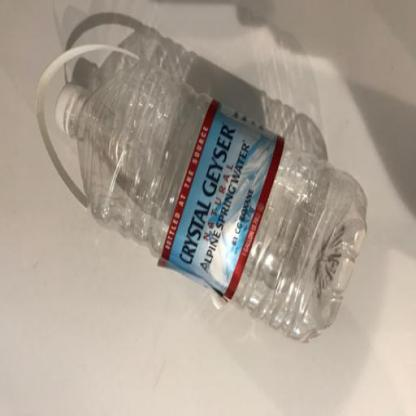trash: (33, 43, 367, 340)
